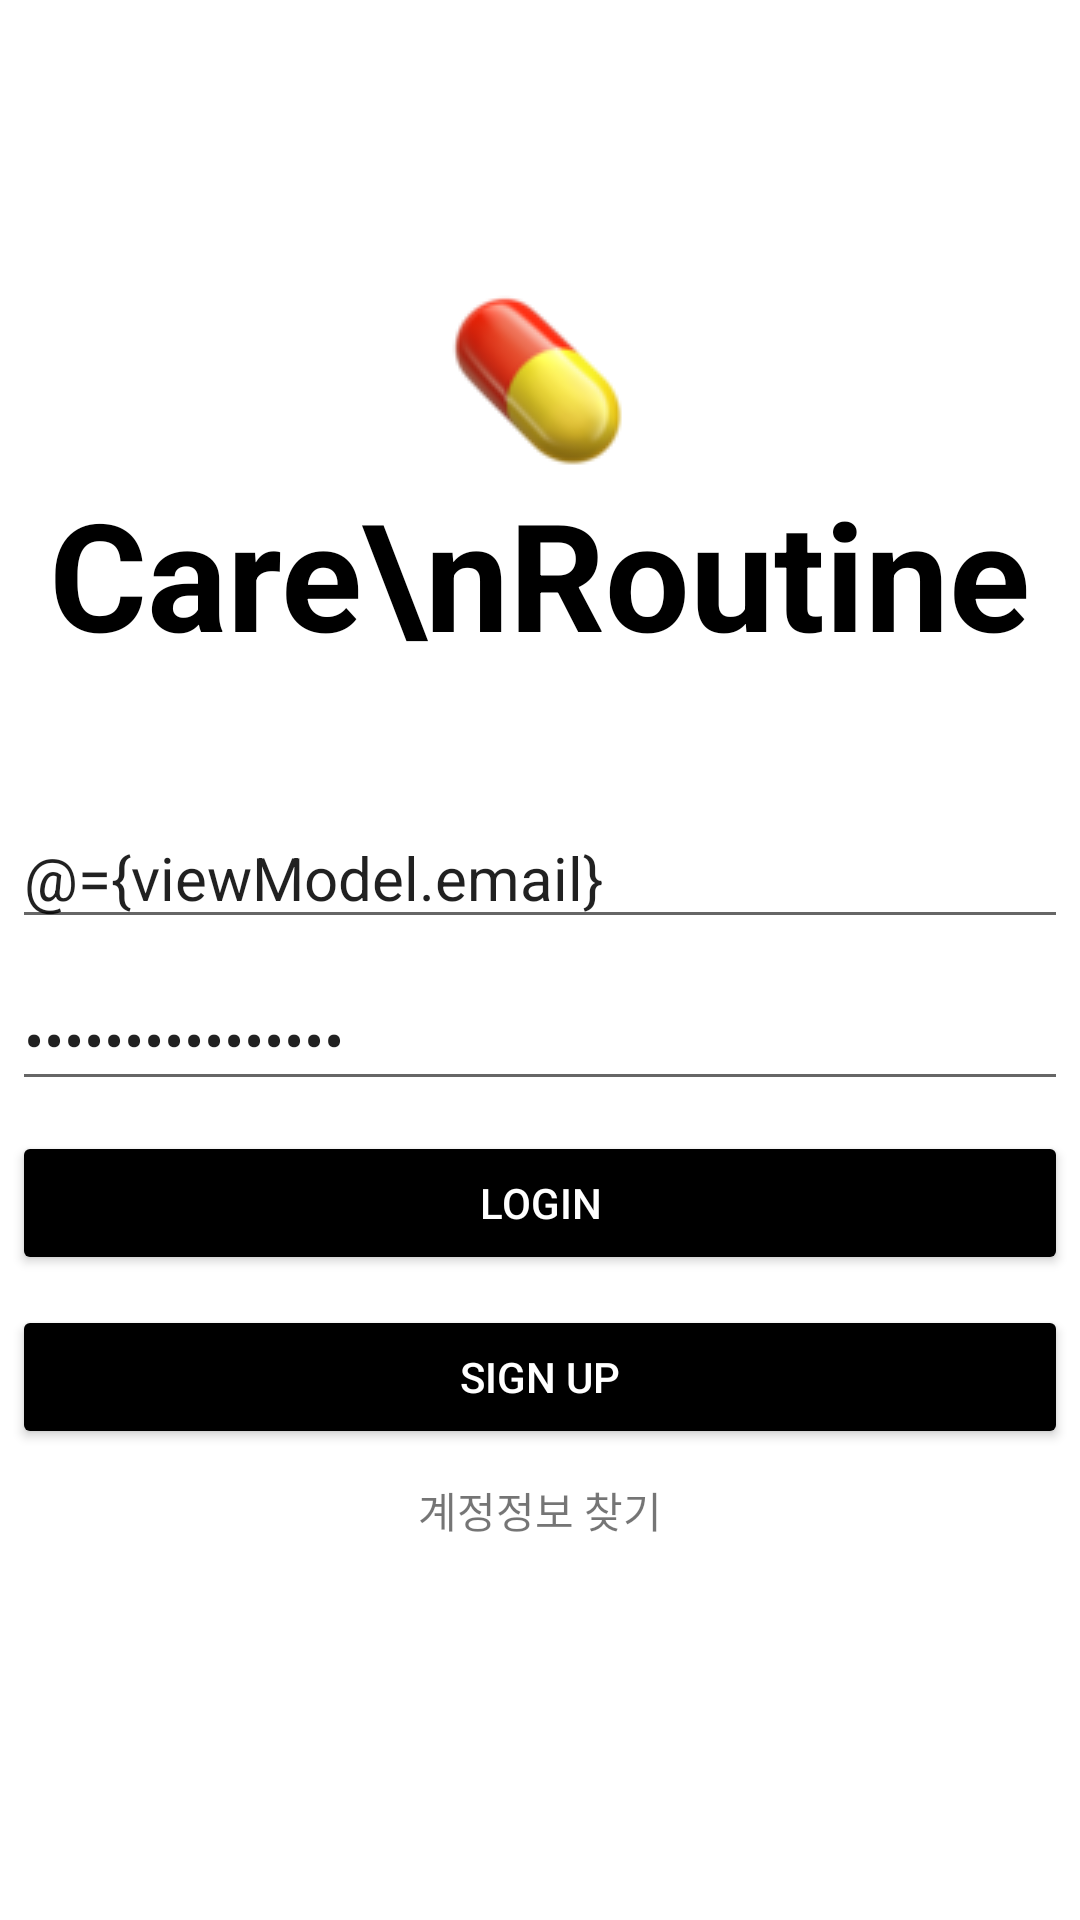

Named icons in this screenshot (1080px x 1920px) and their bounding boxes, {"x1": x1, "y1": y1, "x2": x2, "y2": y2}:
drug: {"x1": 454, "y1": 298, "x2": 622, "y2": 465}
